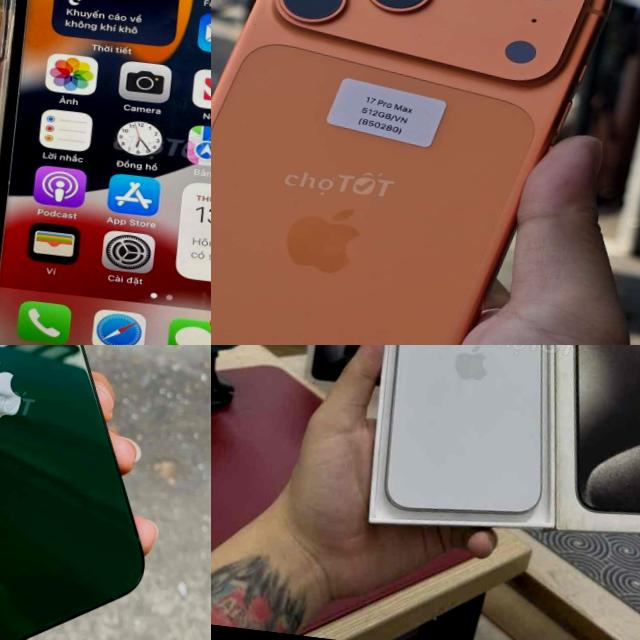gen_12_13: (0, 345, 195, 640)
gen_15: (361, 345, 578, 538)
gen_17: (211, 0, 623, 345)
gen_7_8: (0, 0, 211, 345)
